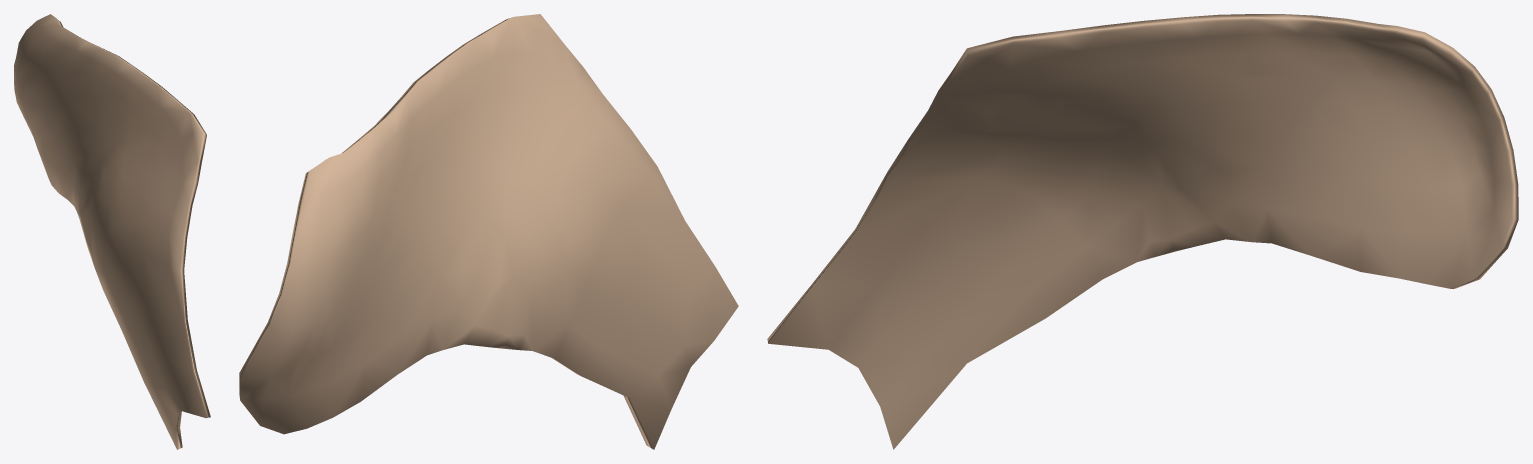
3 views of the same model, side by side, from view 1: azimuth 30°, elevation 25°; view 2: azimuth 150°, elevation 25°; view 3: azimuth 270°, elevation 25° (orthographic). The views are drawn at different scales.
Visible parts, largest first — view 1: 左侧屈肌支持带; view 2: 左侧屈肌支持带; view 3: 左侧屈肌支持带.
Part boxes in pixels (box(x1,y1,x2,y2)): 左侧屈肌支持带: box(14, 14, 210, 449); 左侧屈肌支持带: box(239, 14, 738, 449); 左侧屈肌支持带: box(767, 14, 1518, 449).
Size of the model in its own units: 0.0235 by 0.0802 by 0.1172.
